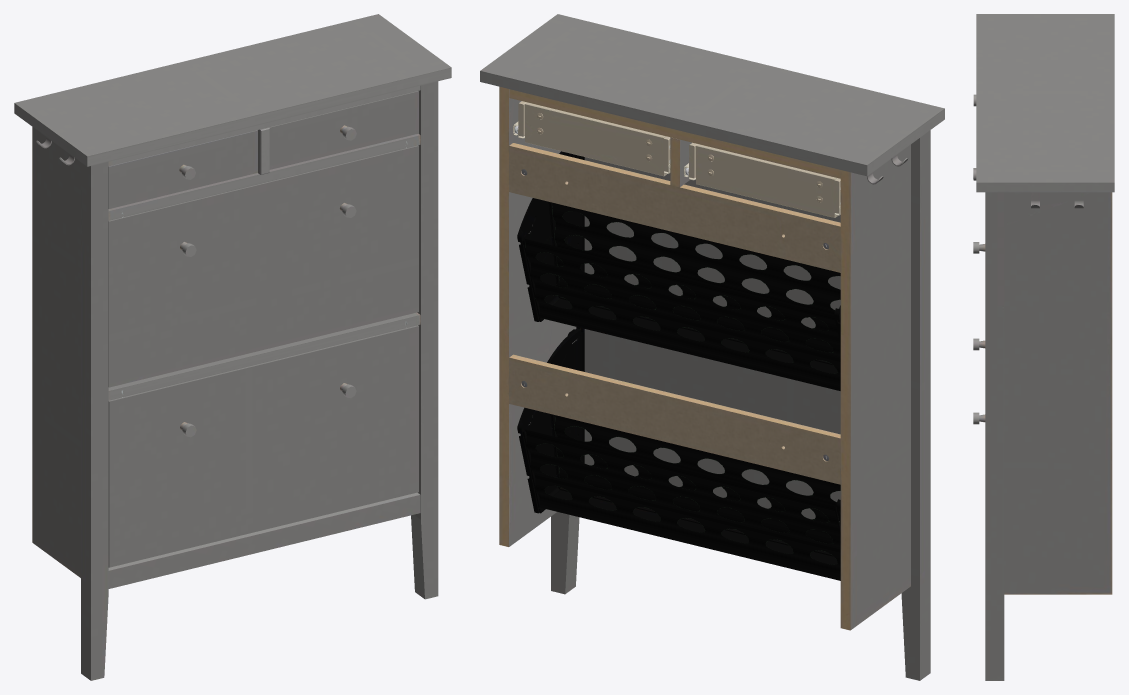
File: gullaberg_szafka_na_buty_2_przegrody_40587697.glb
3 renders of one model, left to right at view 1: azimuth 30°, elevation 25°; view 2: azimuth 150°, elevation 25°; view 3: azimuth 270°, elevation 25°, orthographic. The views are drawn at different scales.
Visible parts, largest first — view 1: gullaberg_szafka_na_buty_2_przegrody_40587697; view 2: gullaberg_szafka_na_buty_2_przegrody_40587697; view 3: gullaberg_szafka_na_buty_2_przegrody_40587697.
Part boxes in pixels (x1,y1,x2,y2): gullaberg_szafka_na_buty_2_przegrody_40587697: (14,14,451,680); gullaberg_szafka_na_buty_2_przegrody_40587697: (480,14,944,680); gullaberg_szafka_na_buty_2_przegrody_40587697: (973,14,1114,680).
Bounding box in the file's own units: 0.875 × 1.22 × 0.3104.
Materials: 2 (2 with a texture image).
